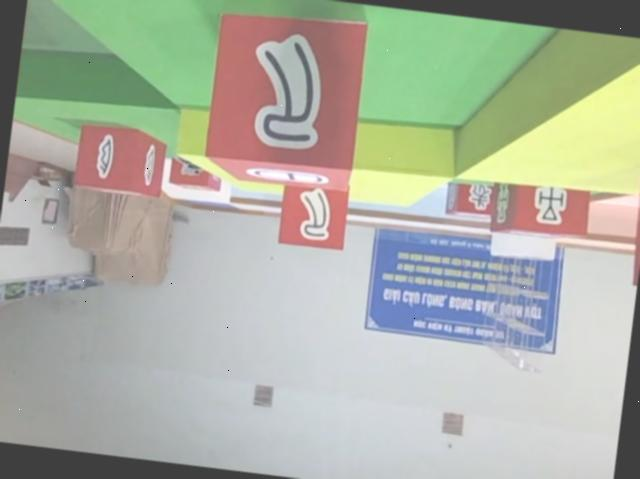R1: (167, 150, 224, 195)
R2 Fake: (198, 1, 374, 196), (275, 172, 353, 253), (443, 174, 506, 222)
R2 Real: (486, 169, 597, 245), (71, 118, 172, 200)
